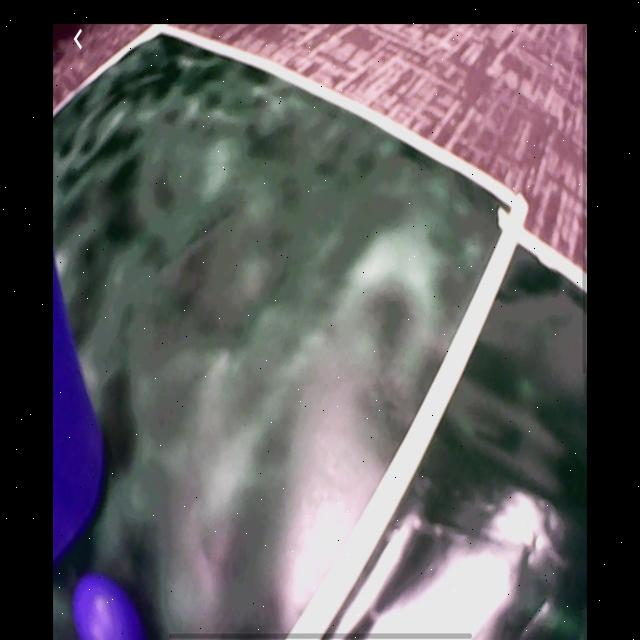ball: (73, 573, 145, 640)
